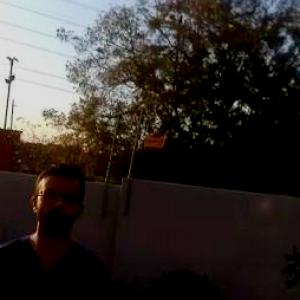follow: (0, 151, 116, 299)
